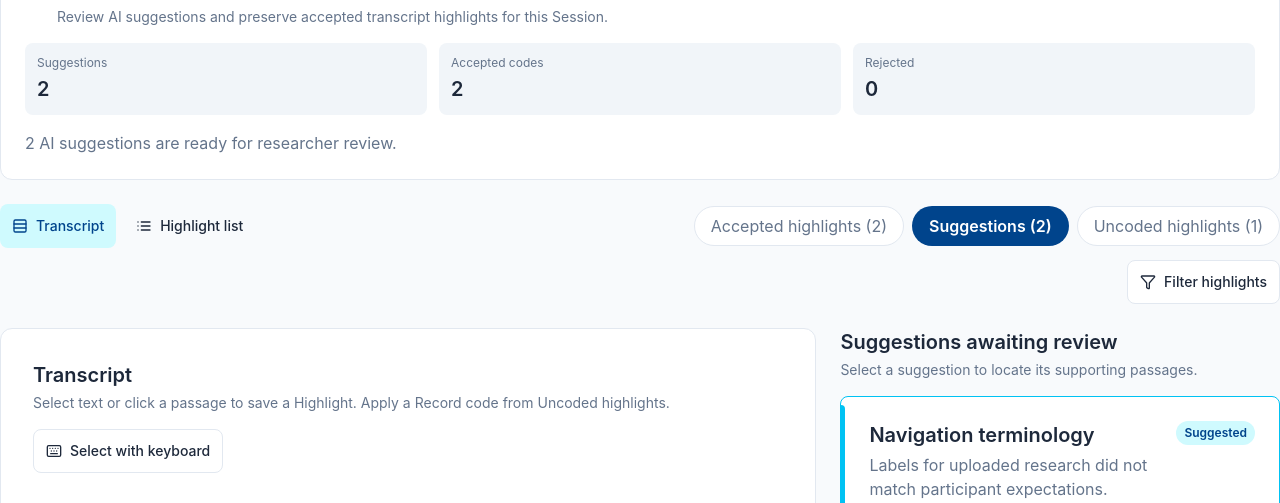
Test case: Transcript Coding Workspace filters › retains an exact selection when saving an uncoded Highlight
Step 1. Click the button "Select with keyboard" → x=128, y=451, box [33,429,223,473]
(page scrolled)
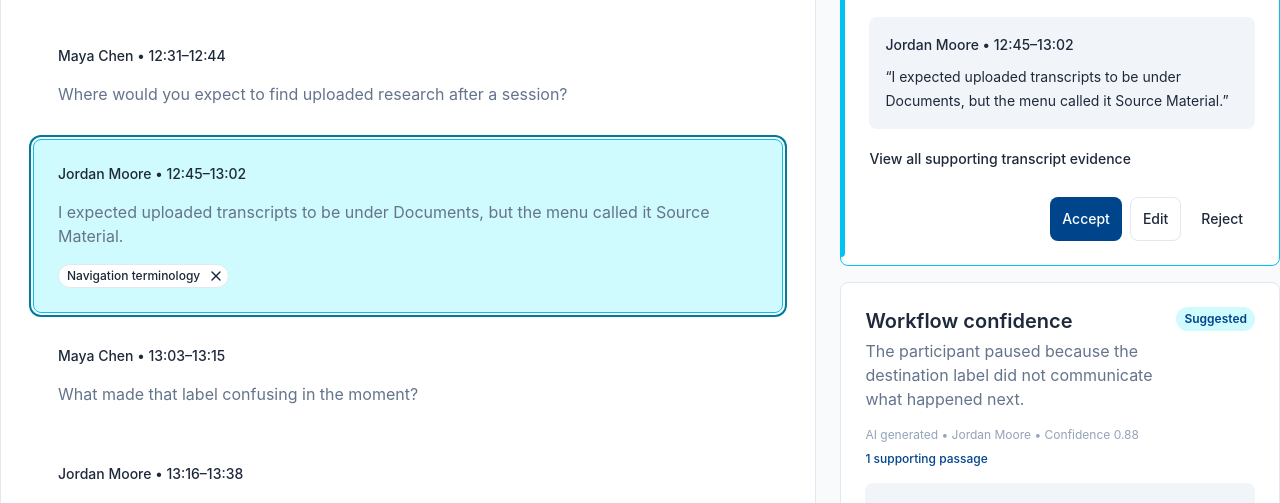
Step 2. Press Arrowup Enter
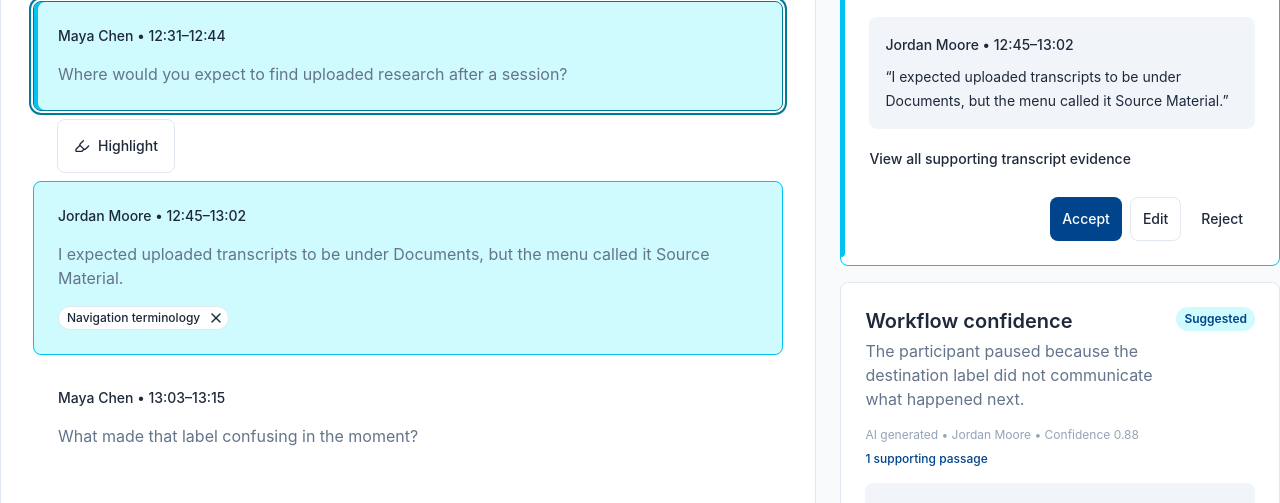
Step 3. Click the button "Highlight" → x=116, y=146, box [62,124,170,168]
(page scrolled)
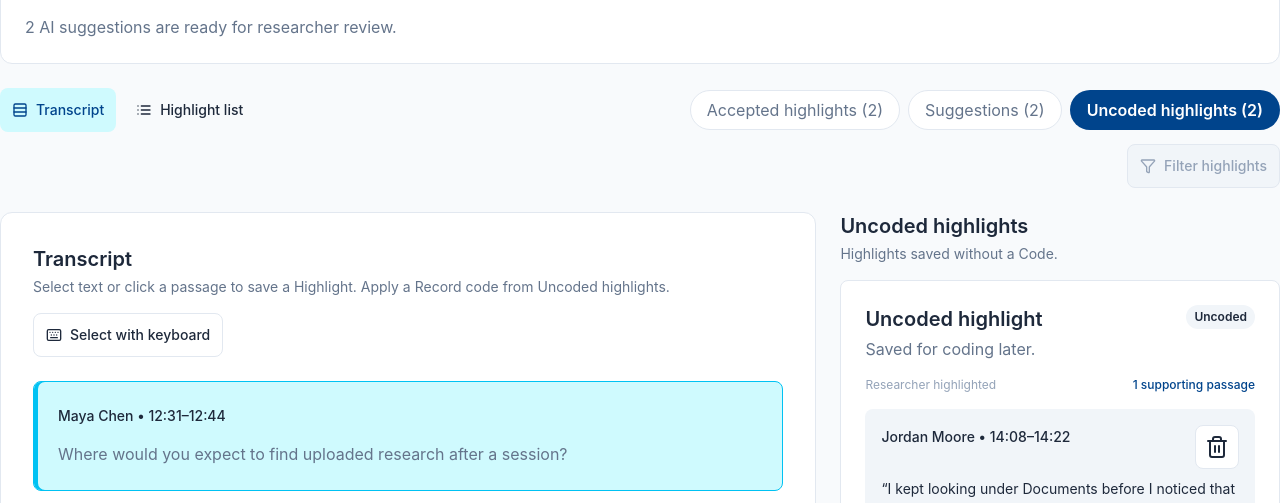
Now the heading "Uncoded highlights" is shown, box [840,214,1028,238]
